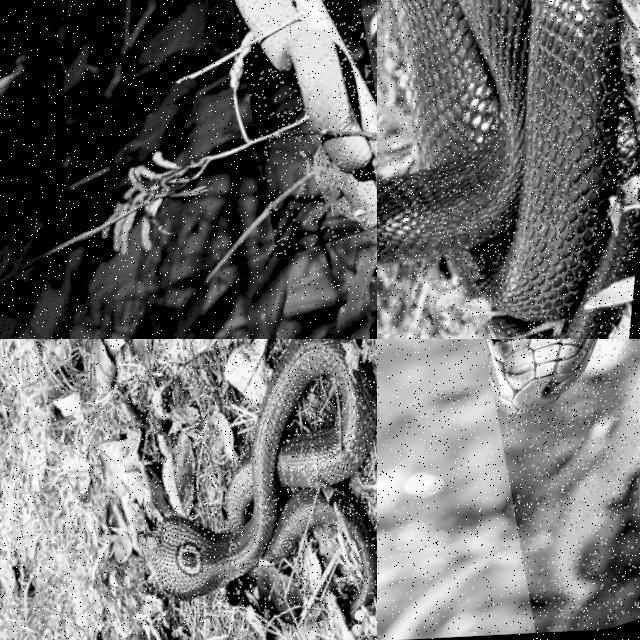Naja kaouthia: (377, 0, 639, 338), (139, 339, 376, 606)
Naja siamensis: (485, 339, 597, 413)
Trimeresurus macrops: (266, 20, 364, 130)
